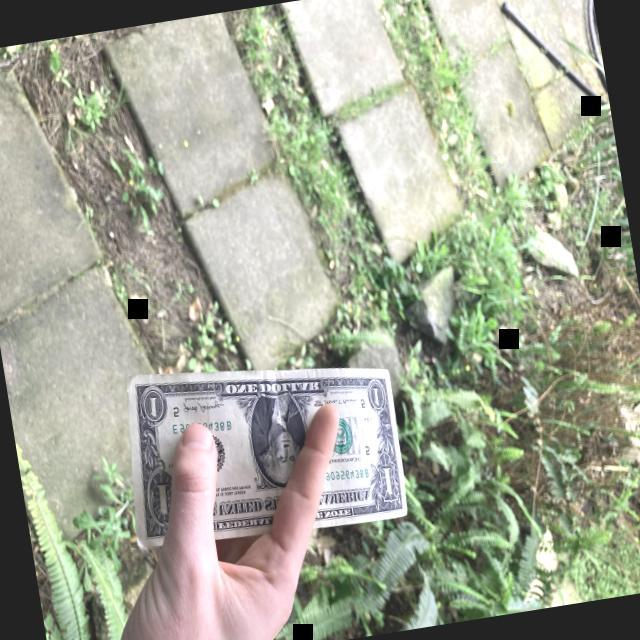one: (126, 363, 409, 546)
